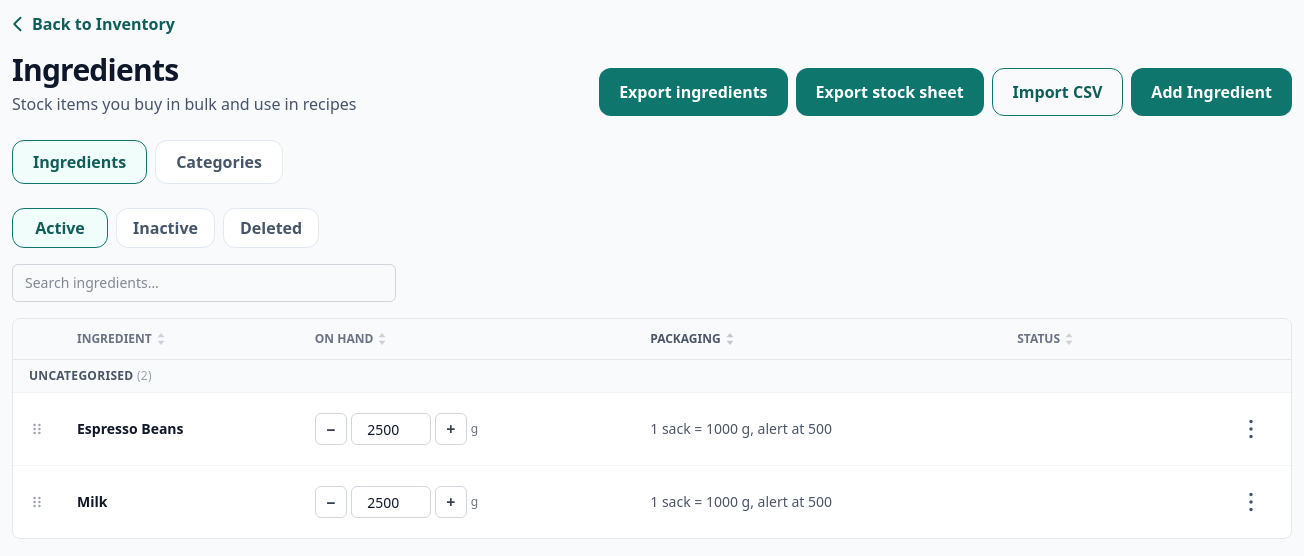
Scenario: IngredientsPage › searches ingredients by name or SKU
Check: the text "Milk" is shown, box [77,492,107,511]
Step 1. Type "espresso" into the search field with placeholder "Search ingredients…" → coordinates (204, 283), box [12,264,396,302]
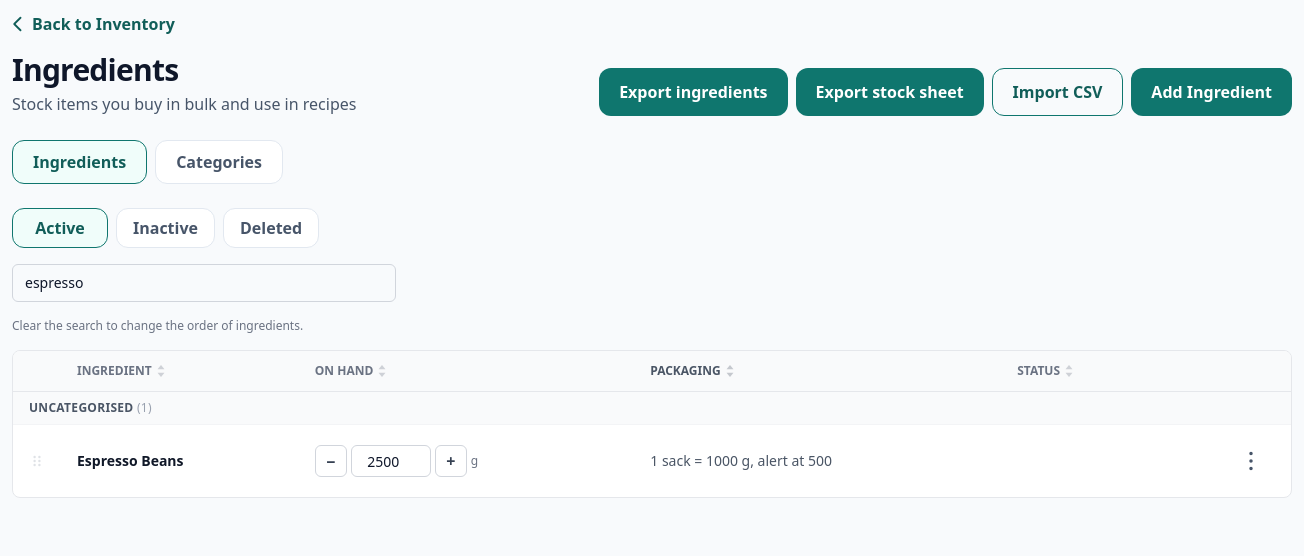
Check: the text "Espresso Beans" is shown, box [77,451,184,470]
Check: the text "Milk" is gone
Step 2. Replace the text in the search field with "mk-9" → coordinates (204, 283), box [12,264,396,302]
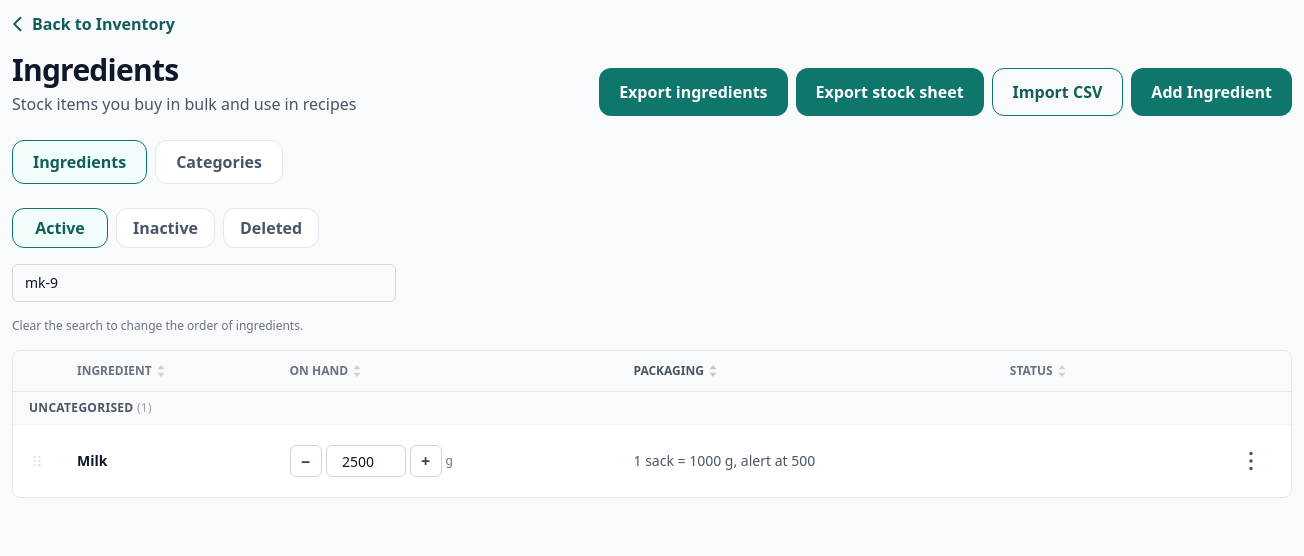
Check: the text "Milk" is shown, box [77,451,107,470]
Check: the text "Espresso Beans" is gone
Step 3. Replace the text in the search field with "zzz" → coordinates (204, 283), box [12,264,396,302]
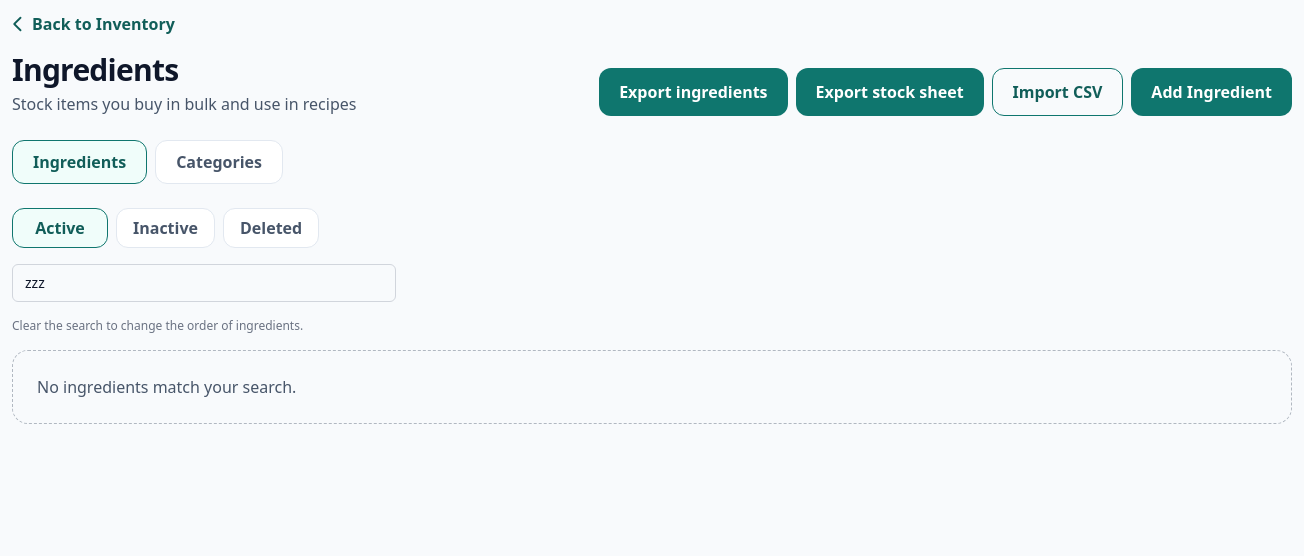
Check: the text "No ingredients match your search." is shown, box [12,350,1292,424]
